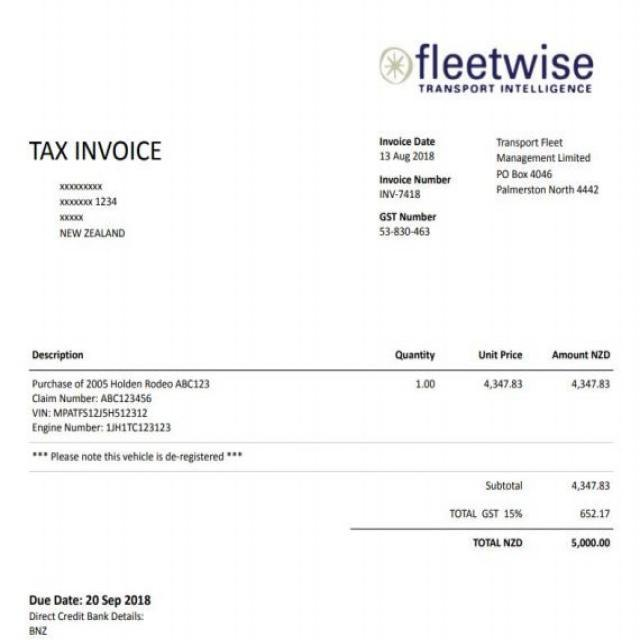due_date: (84, 591, 157, 608)
invoice_date: (378, 151, 441, 163)
invoice_number: (377, 188, 427, 202)
invoice_subtotal: (565, 475, 619, 494)
invoice_total: (564, 532, 617, 552)
item_description: (30, 374, 218, 437)
item_quantity: (404, 373, 442, 395)
item_total_price: (563, 374, 617, 392)
item_unit_price: (479, 375, 528, 394)
supplier_address: (56, 179, 128, 244)
supplier_name: (416, 42, 602, 99)
tax_amount: (572, 503, 617, 522)
